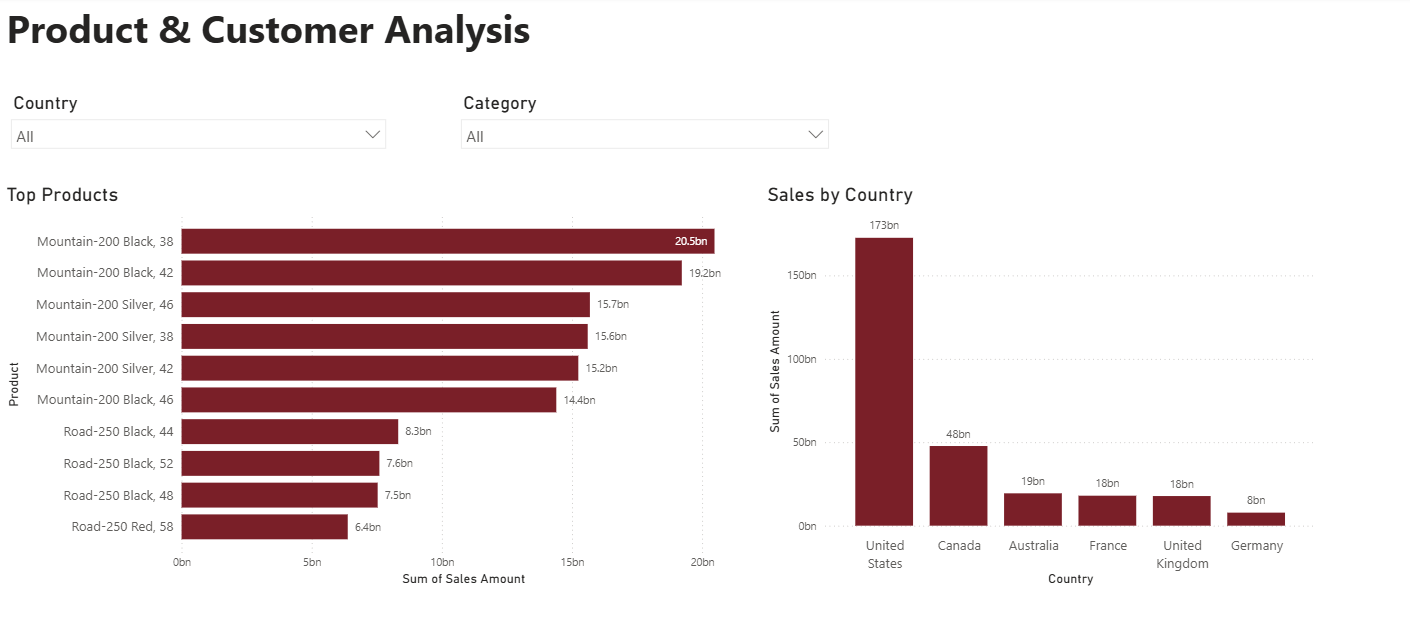

What the dashboard file says about the page in this screenshot:
{"tool":"powerbi","page":{"name":"Product & Customer Analysis","canvas":[1600,900],"ordinal":1},"visuals":[{"type":"textbox","box":[10.1,0,638.1,79.5],"z":0},{"type":"slicer","fields":{"Values":["clean_adventureworks.Country"]},"box":[10.1,101.9,439.9,76.1],"z":1},{"type":"slicer","fields":{"Values":["clean_adventureworks.Category"]},"box":[513.8,101.9,432.1,76.1],"z":2},{"type":"clusteredBarChart","title":"Top Products","fields":{"Category":["clean_adventureworks.Product"],"Y":["Sum(clean_adventureworks.Sales Amount)"]},"box":[10.1,208.2,851.9,455.6],"z":3},{"type":"clusteredColumnChart","title":"Sales by Country","fields":{"Category":["clean_adventureworks.Country"],"Y":["Sum(clean_adventureworks.Sales Amount)"]},"box":[861.9,208.2,624.6,455.6],"z":4}]}

Visuals, with their boxes on the page's 1600x900 design canvas (x1, y1, x2, y2). These are canvas units, not pixel positions in the 1410x618 screenshot, which may show the page scaled, cropped or inside an application window:
textbox: 10,0,648,80
slicer - clean_adventureworks.Country: 10,102,450,178
slicer - clean_adventureworks.Category: 514,102,946,178
"Top Products" clusteredBarChart: 10,208,862,664
"Sales by Country" clusteredColumnChart: 862,208,1486,664
